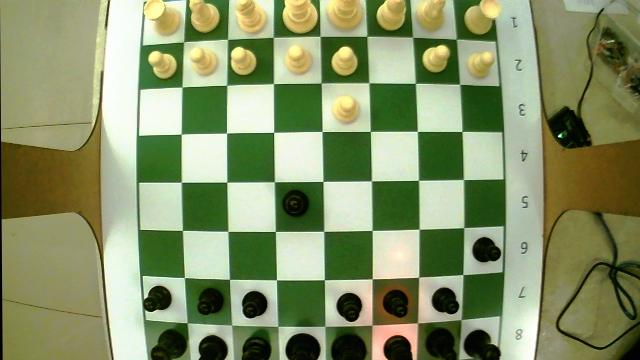piece: (282, 0, 318, 33), (465, 0, 499, 34), (153, 325, 186, 358), (145, 0, 178, 33), (331, 329, 366, 358), (463, 331, 500, 358), (284, 2, 316, 33), (190, 0, 219, 32), (415, 0, 445, 30), (464, 2, 493, 33), (426, 328, 455, 359), (235, 0, 266, 29), (465, 330, 498, 357), (329, 0, 358, 29), (376, 0, 404, 30), (237, 0, 264, 31), (188, 47, 218, 74), (375, 1, 403, 29), (243, 329, 270, 358), (192, 1, 218, 30), (284, 45, 310, 73), (286, 335, 319, 357), (382, 289, 408, 316), (198, 286, 225, 312), (148, 51, 175, 77), (466, 51, 492, 77), (282, 190, 308, 216), (332, 46, 356, 74), (433, 288, 458, 314), (337, 293, 361, 320), (474, 236, 499, 261), (422, 45, 447, 70), (232, 47, 256, 73), (423, 48, 448, 72), (242, 290, 265, 316), (385, 335, 411, 358), (433, 288, 457, 312), (199, 336, 226, 357), (145, 285, 169, 308), (334, 95, 356, 119), (475, 238, 500, 257), (471, 56, 488, 71)
